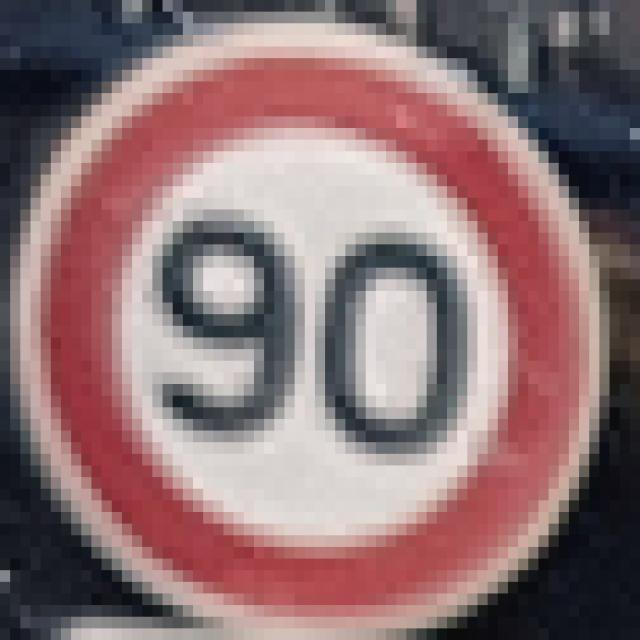speed_90: (0, 23, 630, 628)
